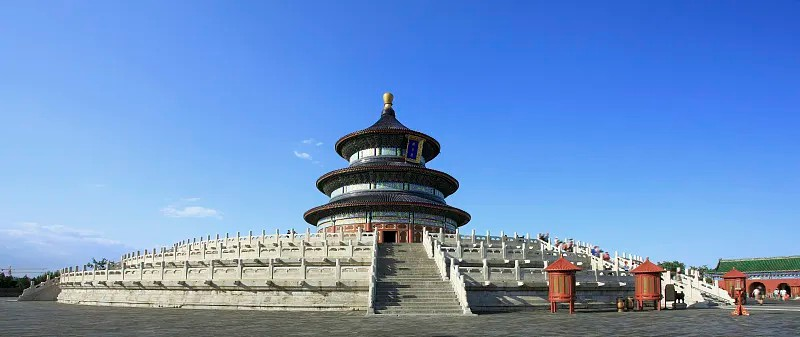Heaven: (303, 92, 471, 246)
